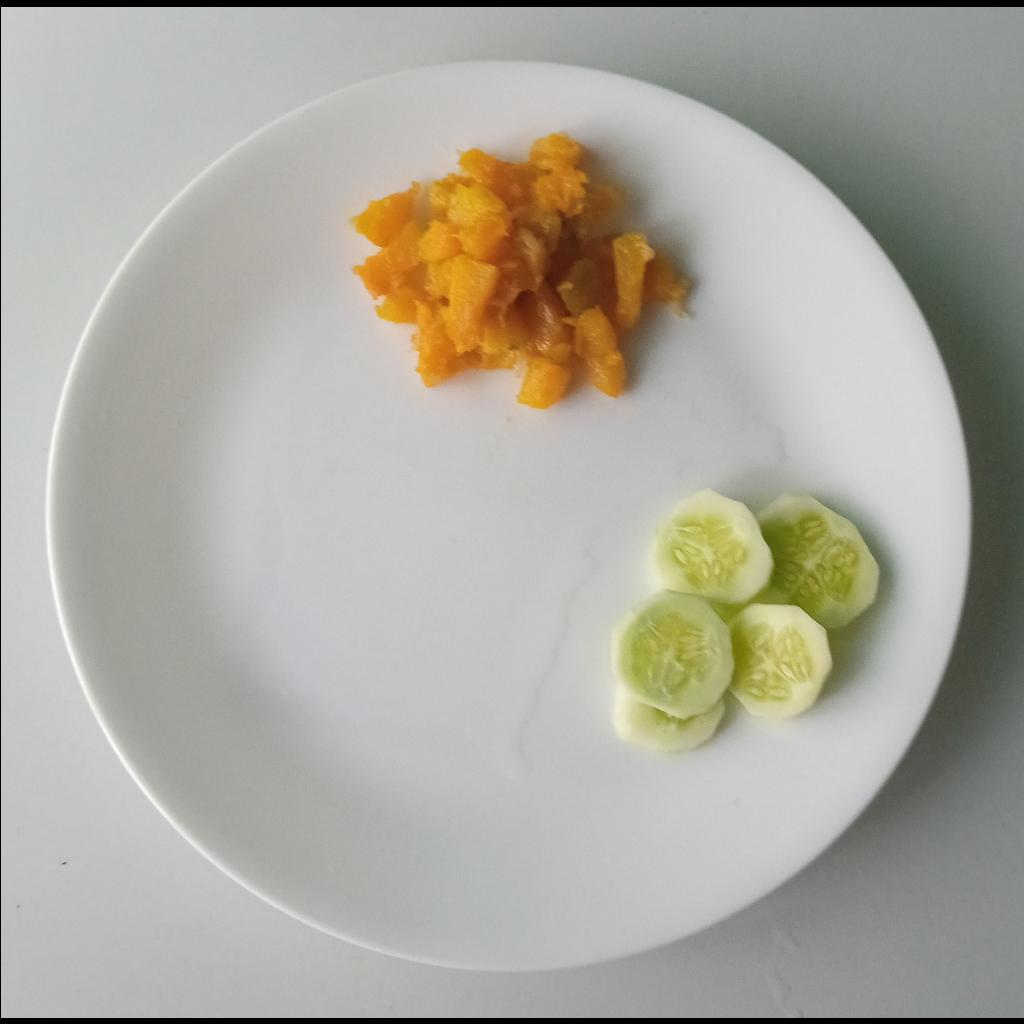cucumber: (607, 486, 889, 749)
kumra-vaji: (347, 129, 697, 411)
